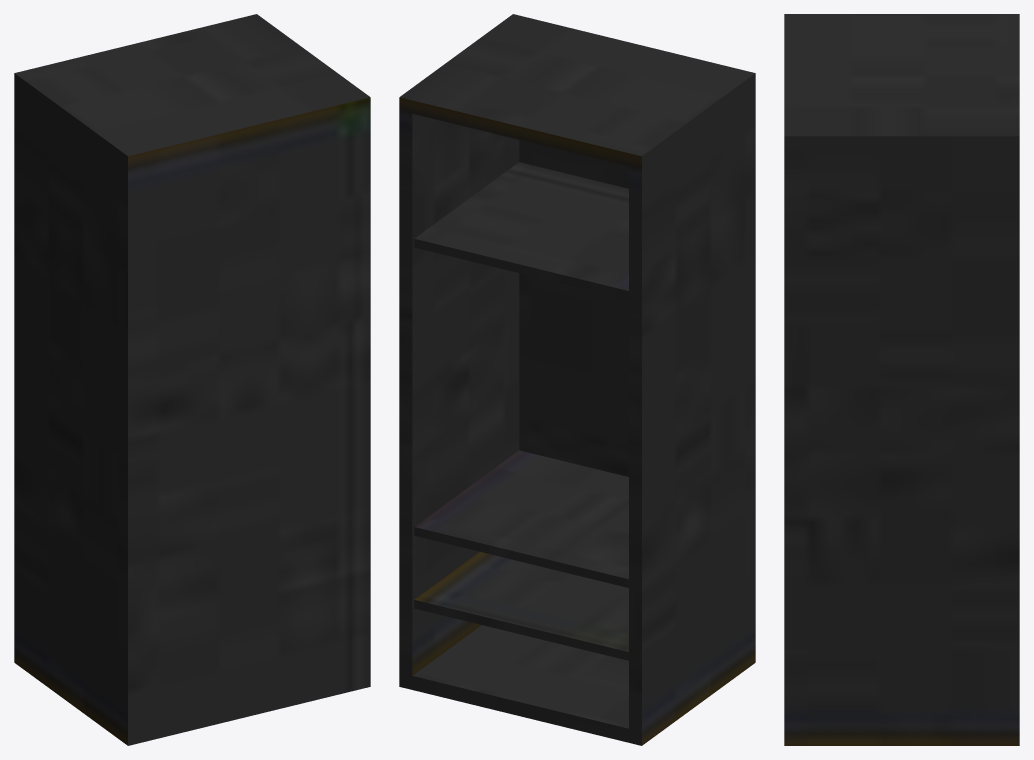
File: Closet15.glb
The picture shows the model from 3 angles, left to right: view 1: azimuth 30°, elevation 25°; view 2: azimuth 150°, elevation 25°; view 3: azimuth 270°, elevation 25°; orthographic projection. The views are drawn at different scales.
Visible parts, largest first — view 1: Closet15_model; view 2: Closet15_model; view 3: Closet15_model.
Boxes of the visible parts, x1,y1,x2,y2 form: Closet15_model: (14, 14, 370, 745); Closet15_model: (399, 14, 755, 745); Closet15_model: (784, 14, 1019, 745).
Bounding box in the file's own units: 2.41 × 5.6 × 1.96.
Materials: 1 (1 with a texture image).
